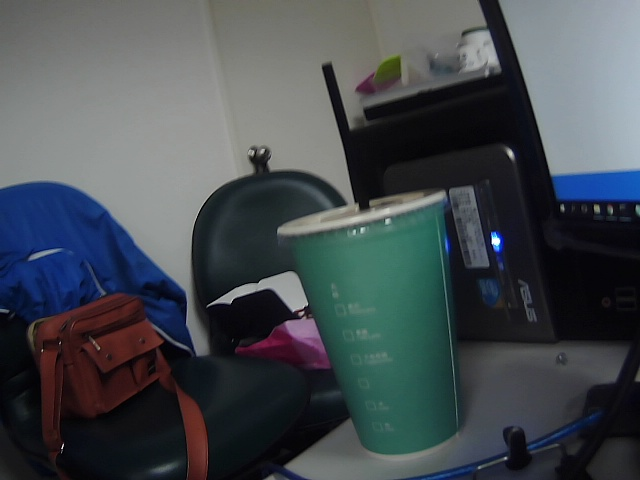beverage: (256, 54, 503, 457)
